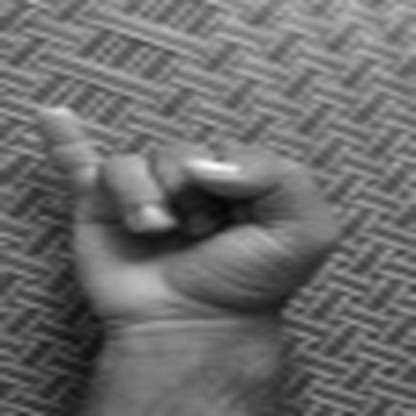i: (34, 89, 335, 320)
